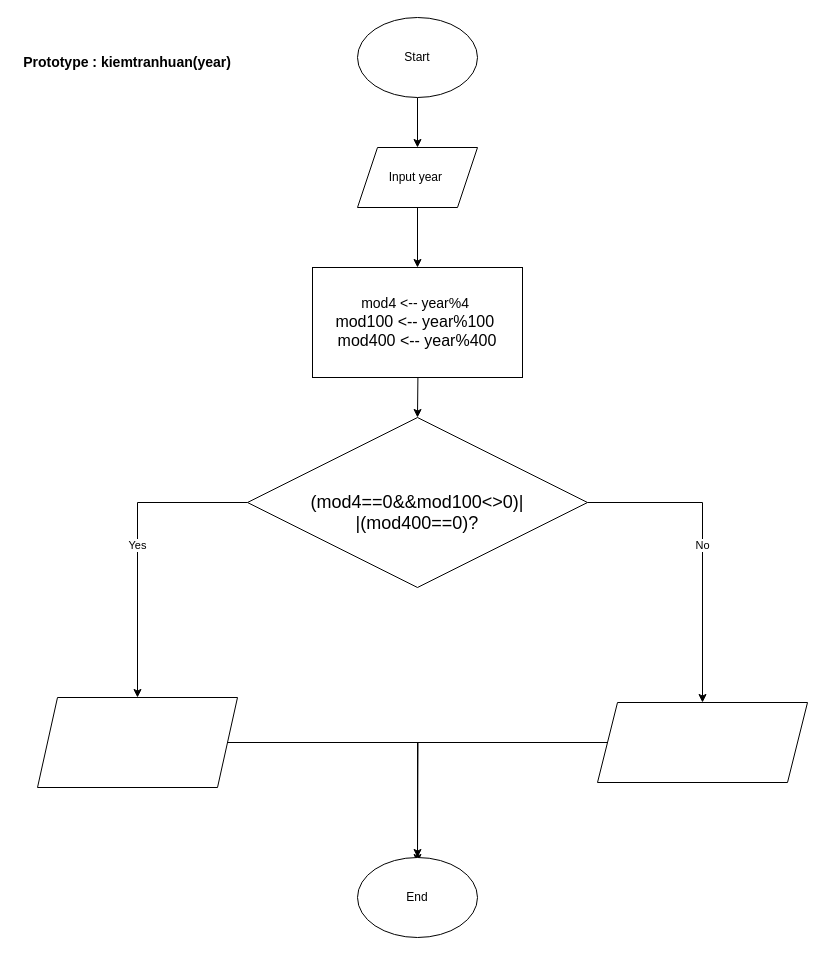
Image size: 825x955. Some labels were removed from this diagram. The shapes that lost their labels are listed below. From the top down, each one's centre as x and y in pixels, then its label:
At (x=137, y=742): "Display Nhuận".
At (x=702, y=742): "Display Không Nhuận".
